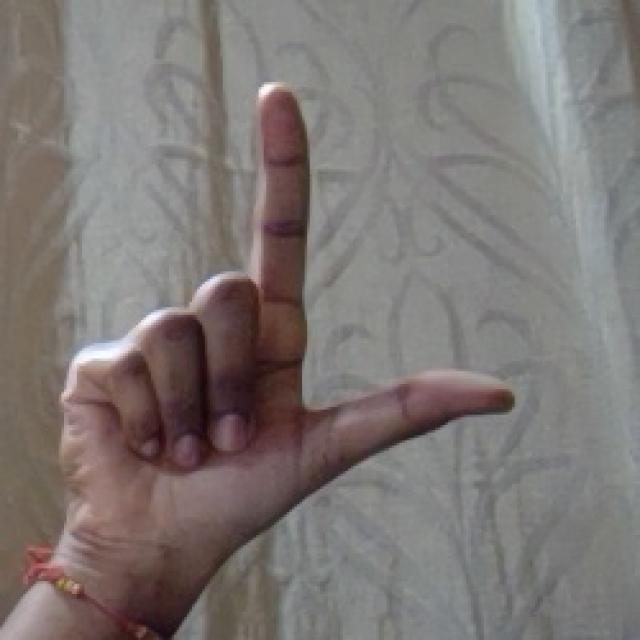Alphabet-L: (43, 74, 518, 580)
